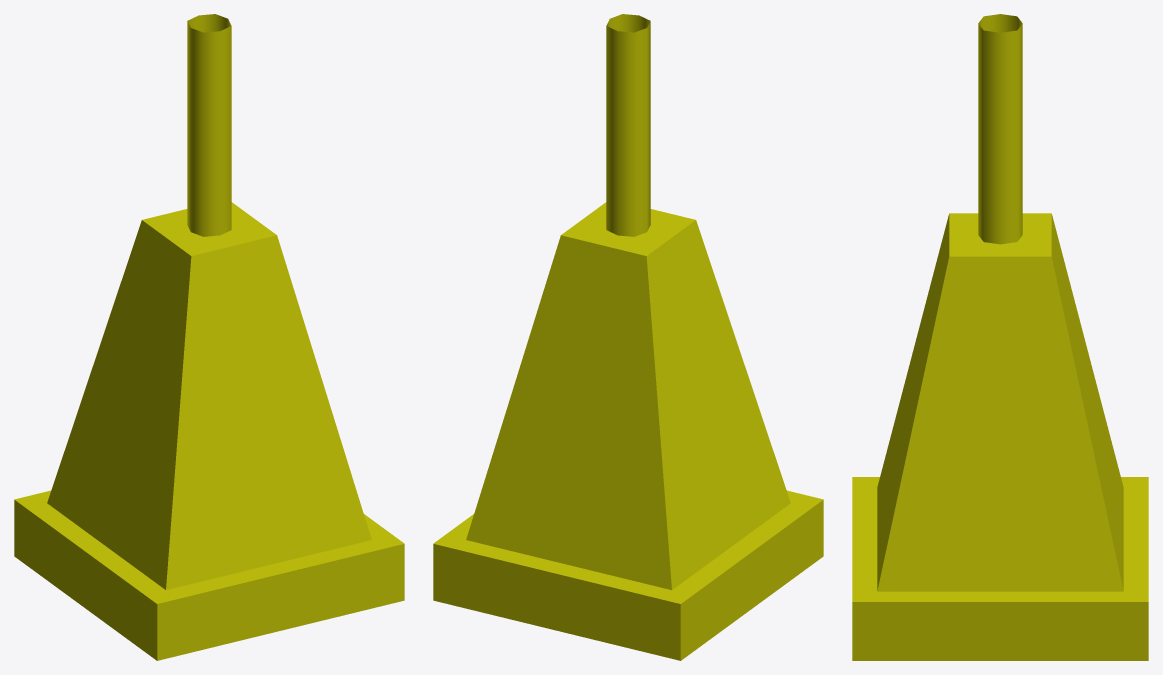
The model's file is 5pod.fbx.
3 views of the same model, side by side, from view 1: azimuth 30°, elevation 25°; view 2: azimuth 150°, elevation 25°; view 3: azimuth 270°, elevation 25° (orthographic). The views are drawn at different scales.
Parts seen in each view (by area): view 1: Mesh; view 2: Mesh; view 3: Mesh.
Part boxes in pixels (x1,y1,x2,y2): Mesh: (14, 14, 404, 660); Mesh: (433, 14, 823, 660); Mesh: (852, 14, 1148, 660).
Size of the model in its own units: 63.81 by 137 by 63.81.
